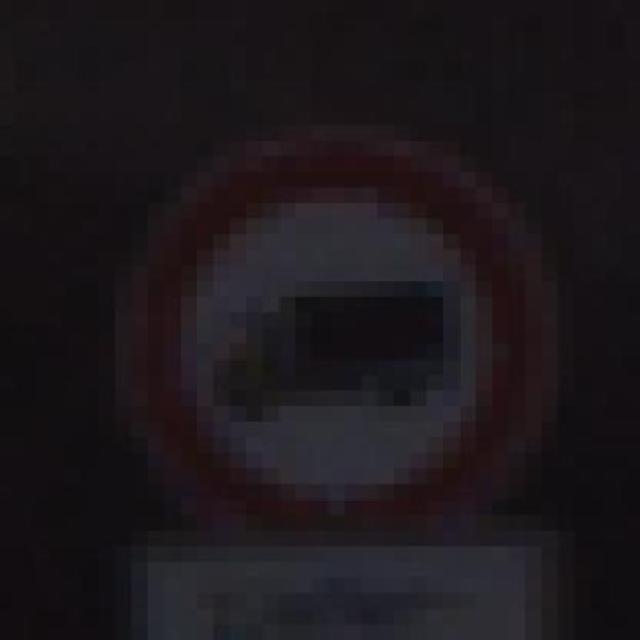Truck traffic is prohibited: (33, 94, 575, 531)
